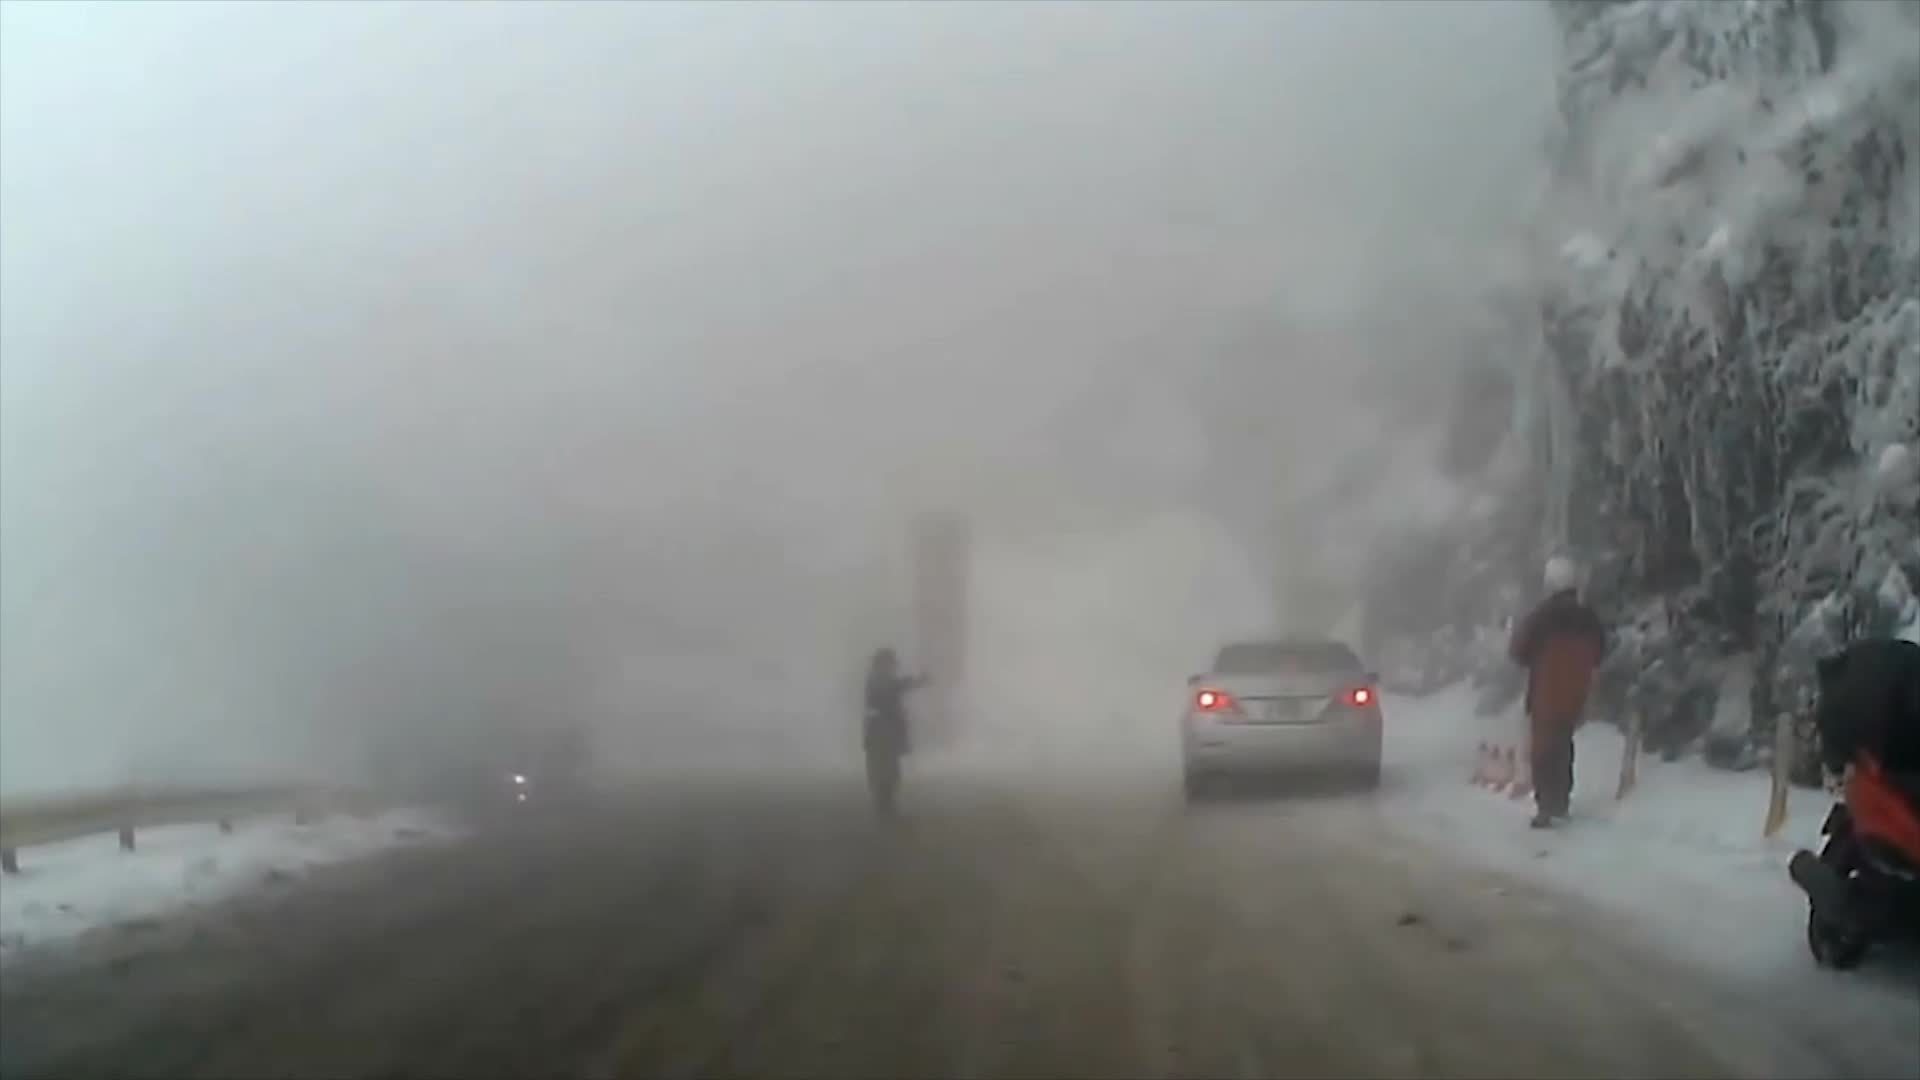pedestrian: (1511, 553, 1618, 833), (861, 644, 925, 822)
vehicle: (1181, 634, 1380, 803)
